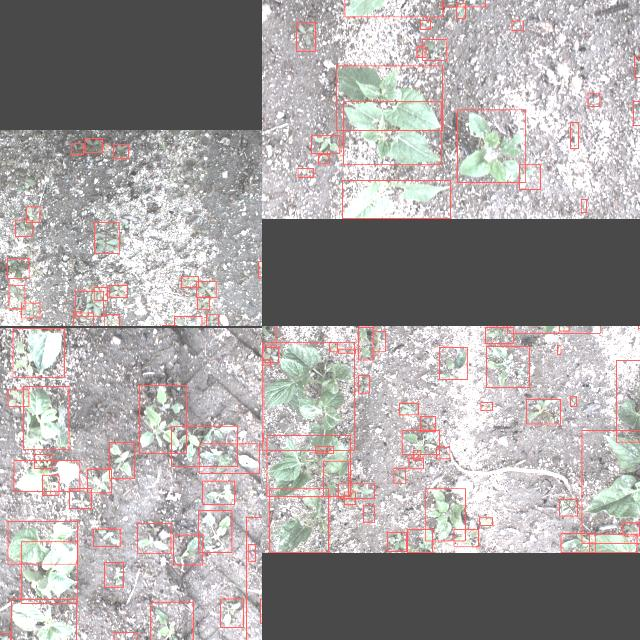crop: (262, 343, 354, 451), (336, 66, 442, 130), (581, 430, 640, 543), (343, 102, 441, 164), (266, 436, 350, 496), (342, 181, 450, 219), (268, 489, 328, 553), (20, 542, 76, 604), (22, 386, 68, 450), (7, 522, 77, 564), (10, 599, 76, 640), (12, 328, 64, 377), (13, 461, 79, 492), (616, 360, 640, 442), (344, 0, 442, 16), (590, 534, 636, 552)
weed: (456, 110, 524, 182), (138, 384, 186, 454), (171, 426, 237, 466), (425, 489, 465, 541), (485, 346, 529, 388), (198, 443, 258, 473), (149, 602, 192, 640), (198, 510, 232, 552), (136, 523, 170, 553), (108, 442, 134, 478), (401, 430, 439, 454), (172, 535, 202, 565), (438, 347, 466, 379), (526, 398, 560, 424), (322, 462, 348, 496), (74, 290, 104, 316), (94, 222, 118, 254), (202, 481, 234, 505), (220, 598, 242, 628), (560, 534, 594, 552), (87, 469, 111, 493), (518, 164, 540, 190), (406, 530, 432, 552), (296, 22, 314, 52), (310, 136, 340, 154), (92, 529, 120, 547), (485, 326, 513, 344), (338, 484, 374, 498), (422, 40, 446, 60), (104, 562, 122, 588), (358, 326, 372, 359), (6, 258, 28, 278), (69, 488, 91, 508), (452, 530, 478, 546), (386, 532, 406, 552), (8, 286, 24, 308), (196, 281, 216, 297), (20, 302, 40, 318), (8, 390, 28, 406), (42, 475, 58, 495), (559, 499, 577, 516), (372, 331, 386, 352), (14, 220, 32, 236), (173, 316, 201, 326), (262, 326, 275, 347), (73, 313, 93, 326), (84, 138, 102, 152), (33, 454, 51, 468), (398, 403, 418, 415), (109, 285, 128, 297), (112, 144, 128, 158), (25, 206, 39, 222), (420, 416, 434, 432), (262, 348, 278, 362), (180, 276, 198, 288), (570, 123, 578, 149), (632, 100, 640, 125), (362, 505, 373, 523), (103, 314, 119, 326), (393, 468, 405, 484), (622, 524, 638, 536), (113, 632, 136, 640), (358, 375, 368, 393), (197, 296, 209, 310), (93, 288, 107, 300), (435, 447, 449, 459), (297, 168, 313, 178), (206, 314, 218, 326), (587, 94, 599, 106), (315, 446, 333, 454), (408, 458, 422, 468), (634, 56, 640, 77), (248, 544, 255, 562), (71, 144, 83, 154), (416, 46, 426, 58), (344, 492, 354, 504), (456, 4, 464, 18), (478, 518, 492, 526), (317, 154, 328, 164), (420, 20, 430, 30), (512, 21, 522, 31), (480, 402, 492, 410), (329, 342, 337, 352), (412, 450, 420, 460), (580, 200, 586, 212), (258, 262, 262, 278), (338, 349, 354, 353), (570, 396, 576, 406), (262, 360, 269, 366), (558, 326, 568, 330), (556, 346, 560, 354)
